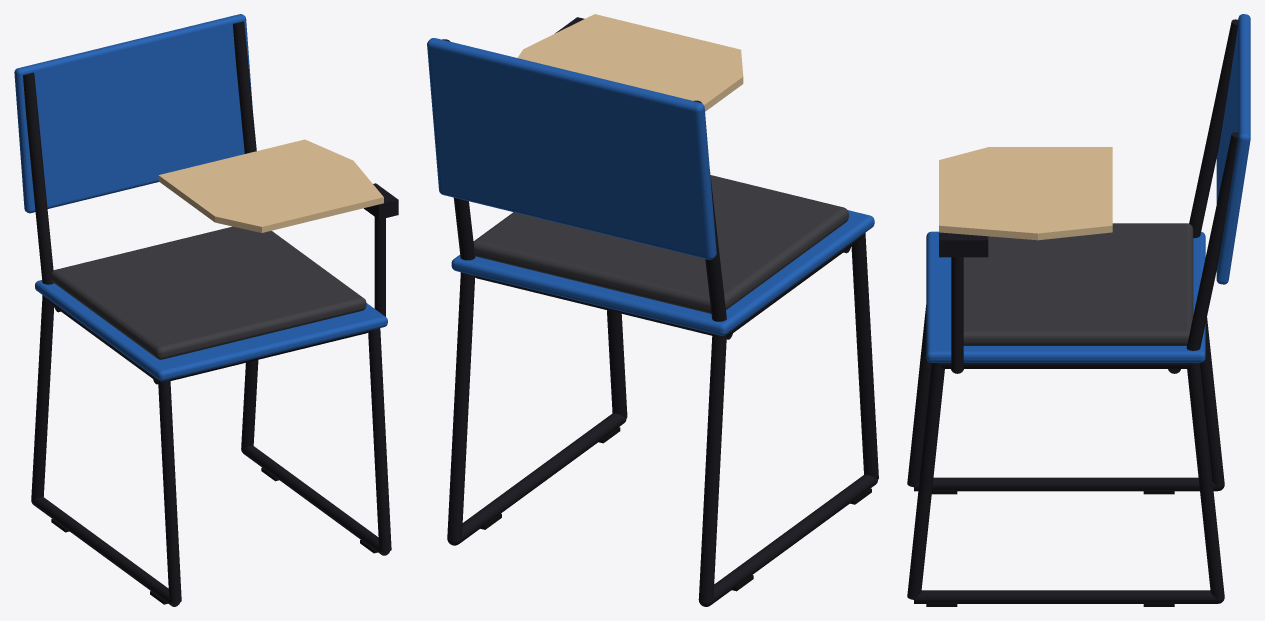
Rendered from 075_lecture_hall_tablet_arm_chair.glb.
The picture shows the model from 3 angles, left to right: view 1: azimuth 30°, elevation 25°; view 2: azimuth 150°, elevation 25°; view 3: azimuth 270°, elevation 25°; orthographic projection. The views are drawn at different scales.
Visible parts, largest first — view 1: 012_back_shell, 009_seat_pad, 015_writing_tablet, 000_sled_frame, 008_polypropylene_seat_shell, 003_sled_frame, 010_back_post, 011_back_post, 013_tablet_support_post, 014_tablet_hinge, 007_seat_cross_tube; view 2: 012_back_shell, 009_seat_pad, 015_writing_tablet, 000_sled_frame, 008_polypropylene_seat_shell, 003_sled_frame, 010_back_post, 011_back_post, 006_seat_cross_tube; view 3: 009_seat_pad, 015_writing_tablet, 003_sled_frame, 008_polypropylene_seat_shell, 000_sled_frame, 012_back_shell, 011_back_post, 010_back_post, 013_tablet_support_post, 014_tablet_hinge.
Part boxes in pixels (x1,y1,x2,y2): 012_back_shell: (14, 14, 252, 213); 009_seat_pad: (51, 226, 366, 359); 015_writing_tablet: (158, 139, 383, 232); 000_sled_frame: (31, 295, 181, 606); 008_polypropylene_seat_shell: (35, 280, 387, 381); 003_sled_frame: (241, 328, 391, 555); 010_back_post: (23, 72, 53, 296); 011_back_post: (233, 21, 256, 153); 013_tablet_support_post: (374, 217, 385, 316); 014_tablet_hinge: (364, 183, 398, 219); 007_seat_cross_tube: (153, 331, 367, 384); 012_back_shell: (427, 38, 716, 259); 009_seat_pad: (473, 175, 848, 313); 015_writing_tablet: (517, 14, 743, 111); 000_sled_frame: (698, 233, 878, 606); 008_polypropylene_seat_shell: (451, 210, 874, 335); 003_sled_frame: (447, 272, 627, 545); 010_back_post: (694, 100, 726, 321); 011_back_post: (442, 39, 475, 260); 006_seat_cross_tube: (475, 276, 732, 339); 009_seat_pad: (963, 223, 1193, 345); 015_writing_tablet: (939, 147, 1112, 240); 003_sled_frame: (907, 363, 1224, 603); 008_polypropylene_seat_shell: (926, 231, 1205, 362); 000_sled_frame: (907, 305, 1224, 491); 012_back_shell: (1216, 14, 1250, 284); 011_back_post: (1186, 132, 1238, 364); 010_back_post: (1189, 19, 1238, 238); 013_tablet_support_post: (951, 257, 963, 372); 014_tablet_hinge: (939, 232, 988, 257).
Size of the model in its own units: 0.5 by 0.8423 by 0.5537.
